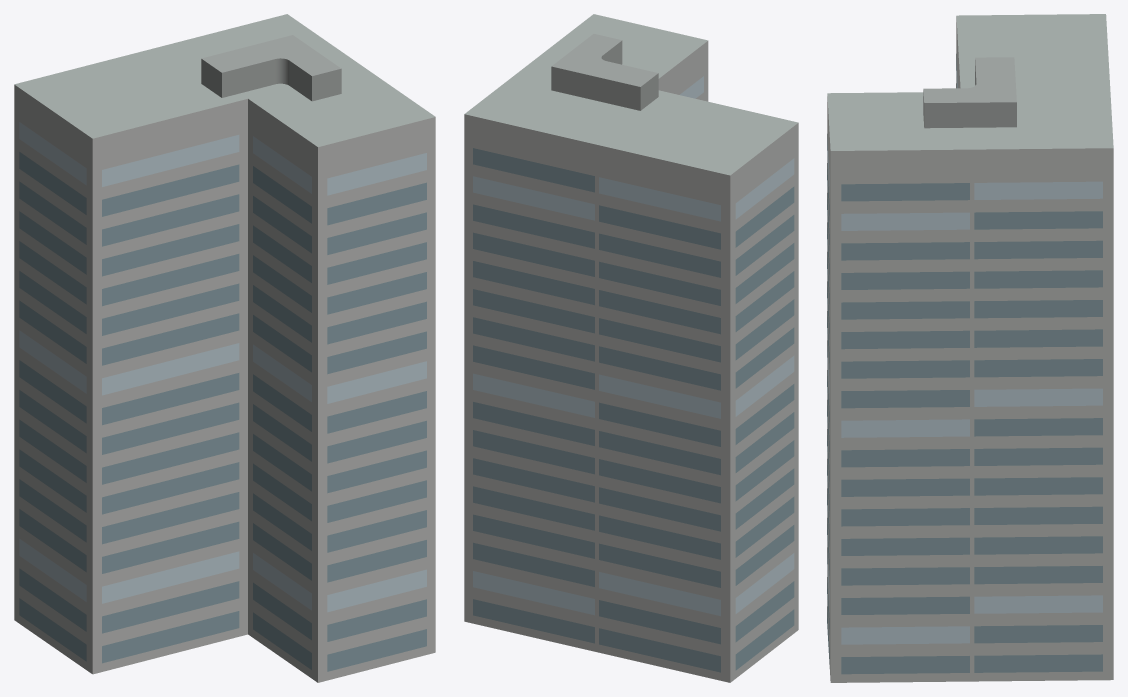
Rendered from fallback-sk-bukhansan-city-122.glb.
3 renders of one model, left to right at view 1: azimuth 30°, elevation 25°; view 2: azimuth 150°, elevation 25°; view 3: azimuth 270°, elevation 25°, orthographic. The views are drawn at different scales.
Parts seen in each view (by area): view 1: fallback-sk-bukhansan-city-122; view 2: fallback-sk-bukhansan-city-122; view 3: fallback-sk-bukhansan-city-122.
Boxes of the visible parts, <box> form: fallback-sk-bukhansan-city-122: <box>14,14,435,682</box>; fallback-sk-bukhansan-city-122: <box>464,14,798,682</box>; fallback-sk-bukhansan-city-122: <box>827,14,1113,682</box>.
Bounding box in the file's own units: 25.38 × 48 × 22.41.
